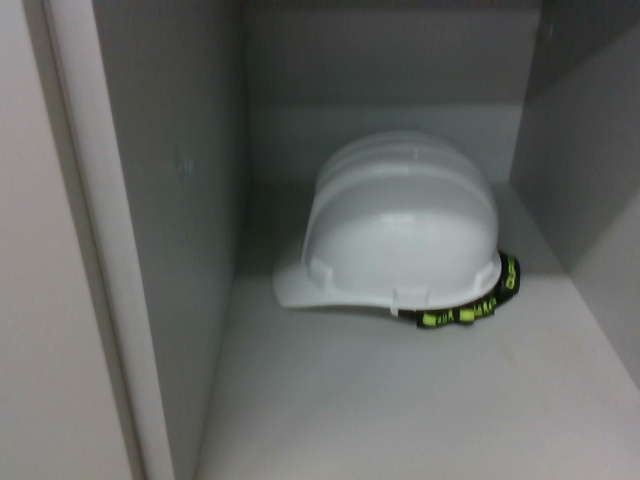helmet: (267, 123, 525, 334)
